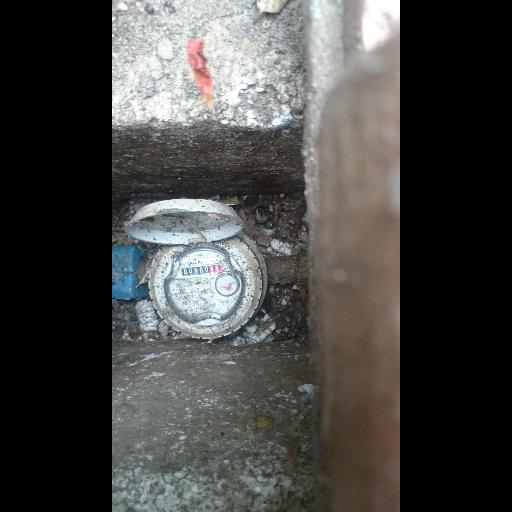0: (182, 268, 189, 277), (188, 267, 194, 276), (199, 266, 205, 275), (204, 266, 210, 275)
5: (193, 267, 199, 276), (215, 265, 221, 274)
6: (220, 264, 225, 271)
9: (209, 265, 215, 274)
border_water_meter_number: (179, 262, 228, 279)
